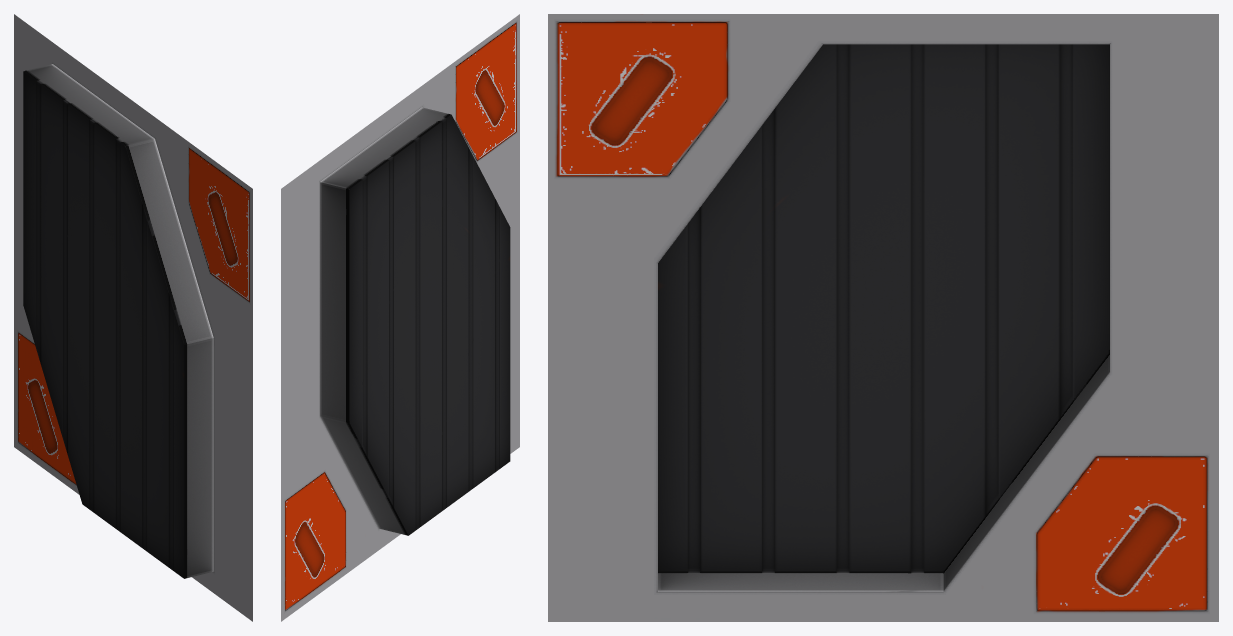
File: wall 2.obj
3 renders of one model, left to right at view 1: azimuth 30°, elevation 25°; view 2: azimuth 150°, elevation 25°; view 3: azimuth 270°, elevation 25°, orthographic. The views are drawn at different scales.
Visible parts, largest first — view 1: lp_Plane.006; view 2: lp_Plane.006; view 3: lp_Plane.006.
Part boxes in pixels (left/top/right/bottom): lp_Plane.006: left=14, top=14, right=252, bottom=621; lp_Plane.006: left=281, top=14, right=519, bottom=621; lp_Plane.006: left=548, top=14, right=1218, bottom=621.
Size of the model in its own units: 0.1431 by 2 by 2.
1 material, 1 textured.
